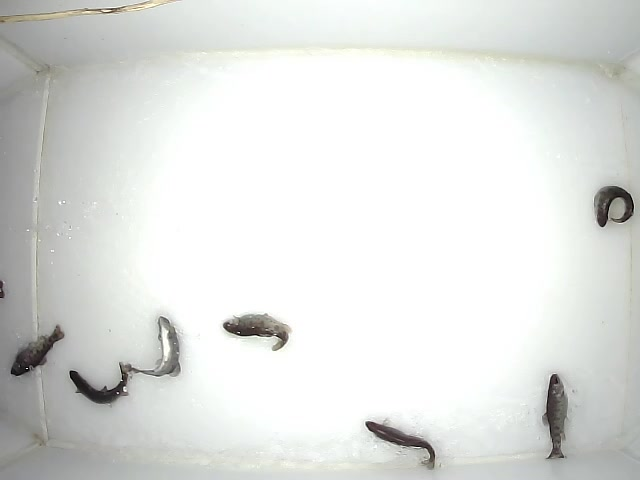fish: (120, 314, 183, 377), (363, 420, 439, 470), (7, 323, 65, 378), (221, 309, 292, 353), (537, 373, 571, 460), (64, 361, 129, 404), (592, 183, 634, 227)
